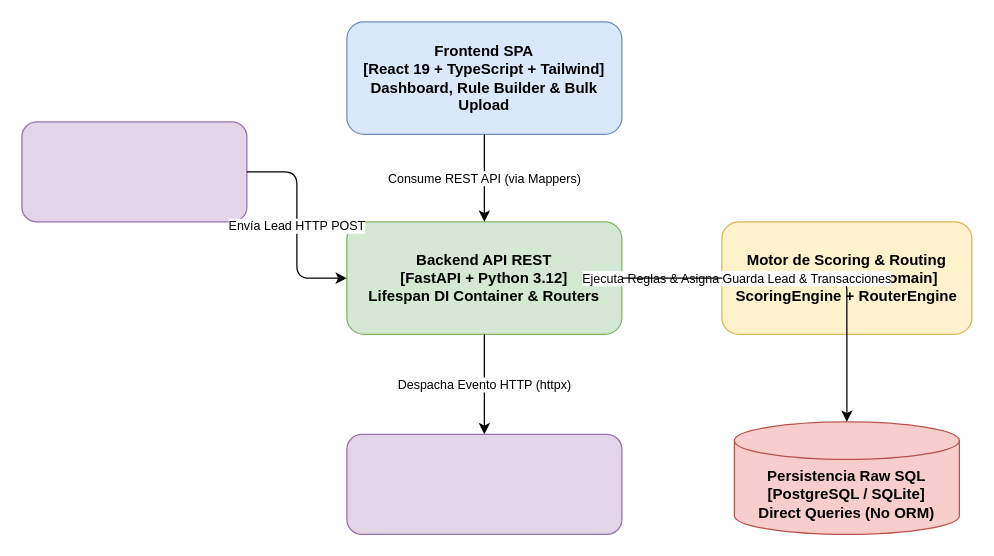
The diagram is 994 pixels wide and 556 high, and some of its shapes have lost their labels. The shapes that lost their labels are listed below. From the top down, each one's centre as x and y in pixels, then its label:
At (x=134, y=171): "Sistema Externo / Fuente de Leads [Webhook de Entrada / CRM]".
At (x=484, y=483): "Endpoint de Webhook Cliente [Notificaciones HMAC SHA-256]".
